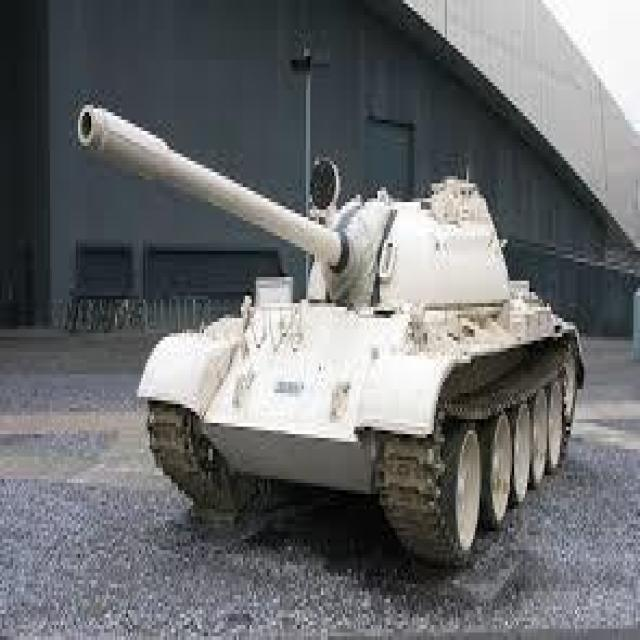Tanks: (150, 180, 575, 584)
